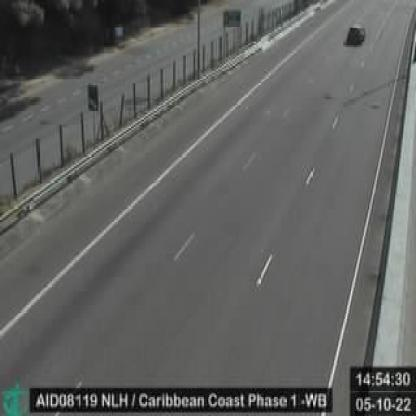Car: (346, 23, 365, 45)
